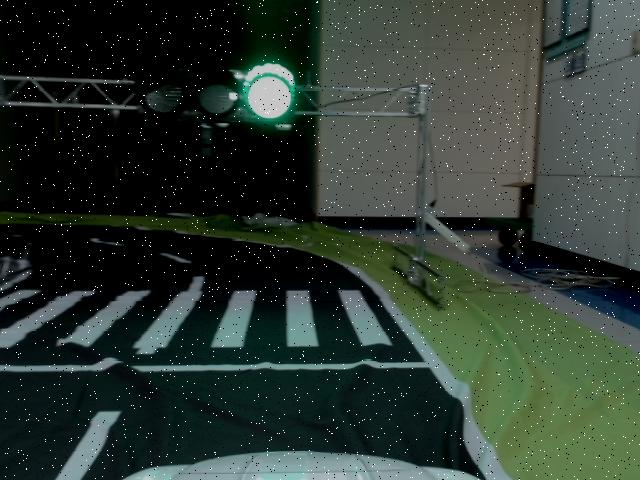crosswalk: (0, 287, 396, 348)
traffic light-green-: (138, 64, 298, 125)
